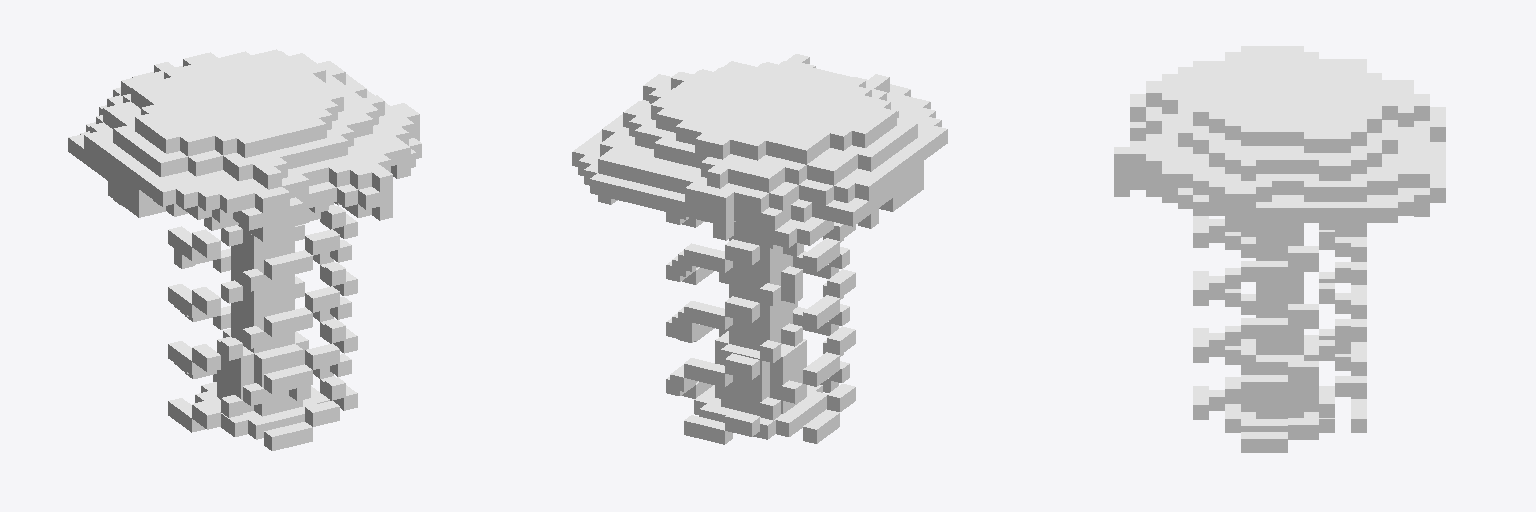
Rendered from blend.obj.
3 views of the same model, side by side, from view 1: azimuth 30°, elevation 25°; view 2: azimuth 150°, elevation 25°; view 3: azimuth 270°, elevation 25° (orthographic).
Visible parts, largest first — view 1: Final_Build_World__2208_64_1173_to_2228_319_1193; view 2: Final_Build_World__2208_64_1173_to_2228_319_1193; view 3: Final_Build_World__2208_64_1173_to_2228_319_1193.
Part boxes in pixels (left/top/right/bottom): Final_Build_World__2208_64_1173_to_2228_319_1193: left=68, top=49, right=421, bottom=450; Final_Build_World__2208_64_1173_to_2228_319_1193: left=572, top=54, right=947, bottom=444; Final_Build_World__2208_64_1173_to_2228_319_1193: left=1114, top=46, right=1445, bottom=452.
Bounding box in the file's own units: 20 × 22 × 21.